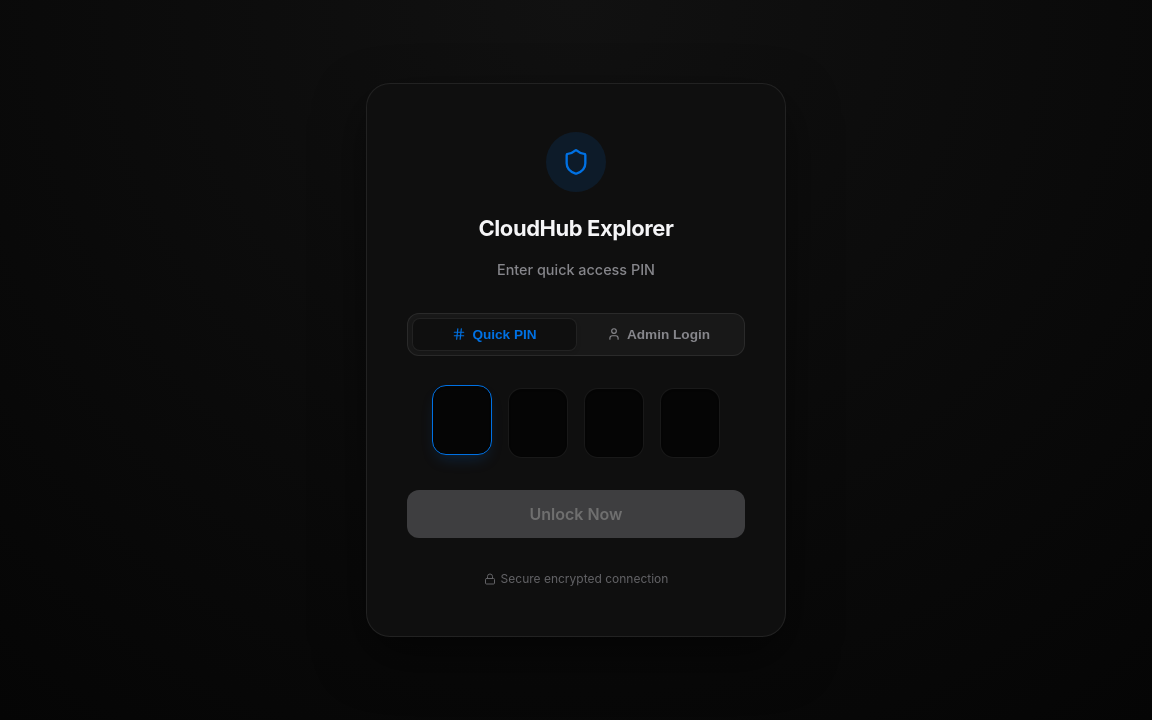
Scenario: PasscodeOverlay Component › takes the last character if multiple are entered
Type "12" into the password field named "PIN digit 1" at (462, 420), box [432,385,492,455]
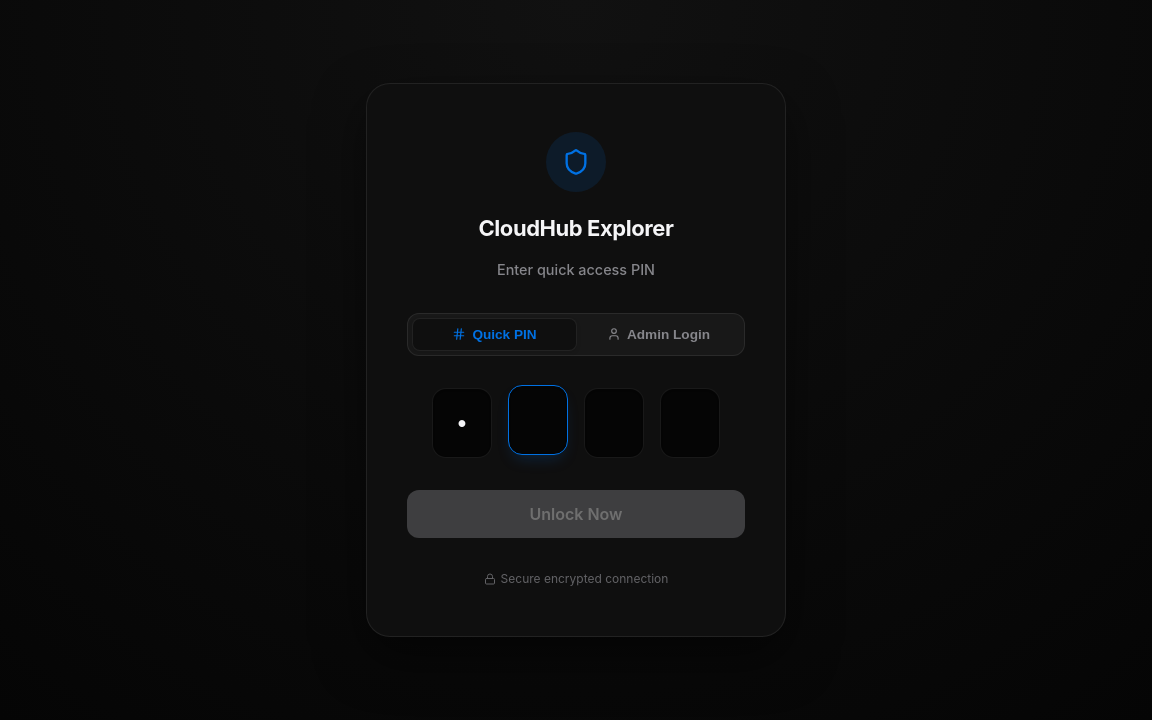
Expected: the password field named "PIN digit 1" holds "2", [432,388,492,458]
